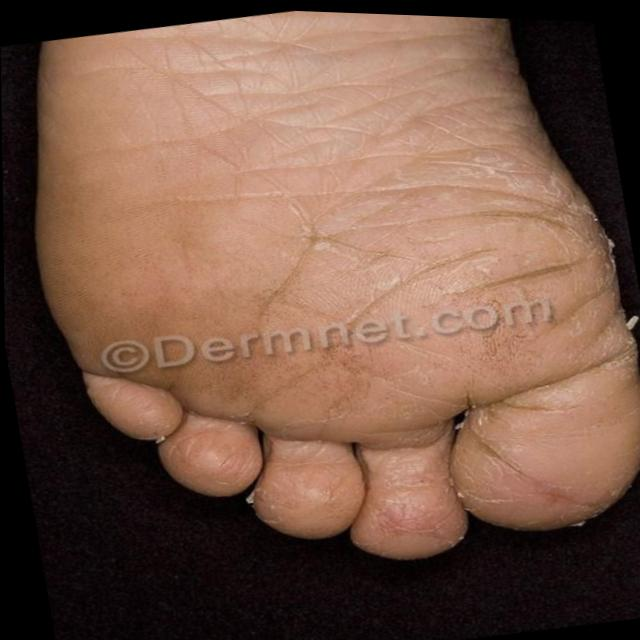liquenificacion 1: (144, 5, 598, 428)
